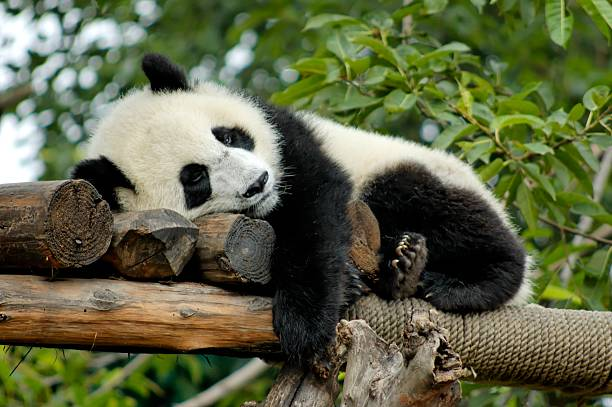panda: (68, 34, 304, 243)
